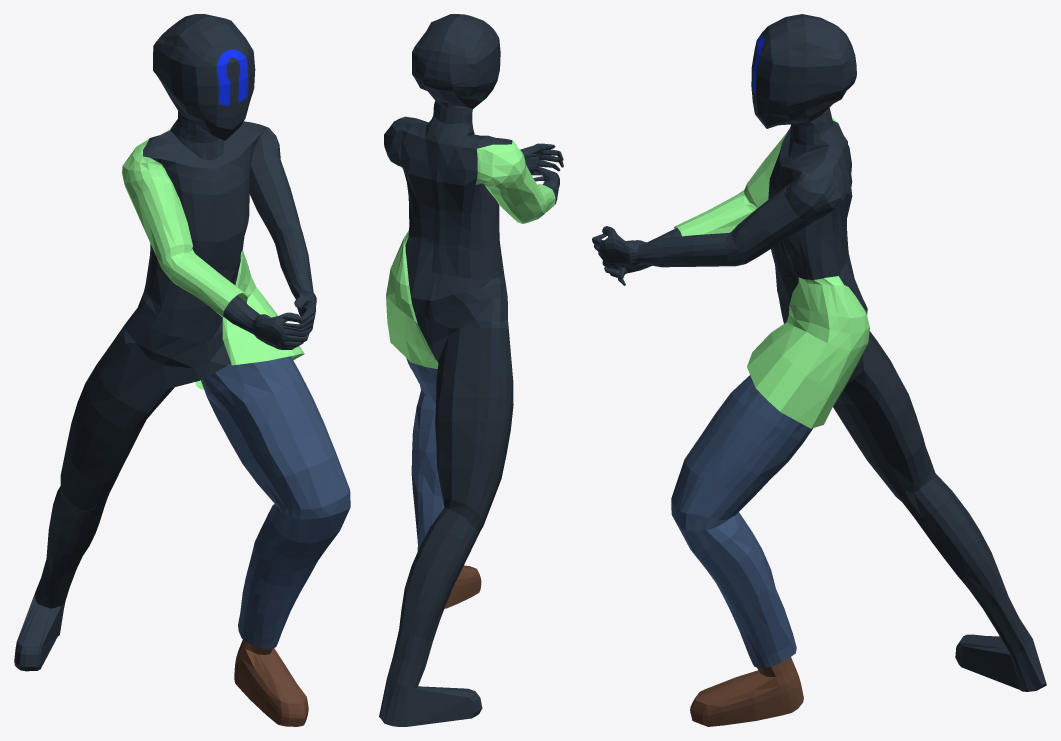
File: Mar_WB_000028.obj
3 views of the same model, side by side, from view 1: azimuth 30°, elevation 25°; view 2: azimuth 150°, elevation 25°; view 3: azimuth 270°, elevation 25° (orthographic). The views are drawn at different scales.
Parts seen in each view (by area): view 1: Cube.000_Cube.001; view 2: Cube.000_Cube.001; view 3: Cube.000_Cube.001.
Boxes of the visible parts, <box> form: Cube.000_Cube.001: <box>14,14,350,726</box>; Cube.000_Cube.001: <box>379,14,563,726</box>; Cube.000_Cube.001: <box>592,14,1046,726</box>.
Bounding box in the file's own units: 1.09 × 3.69 × 2.2.
